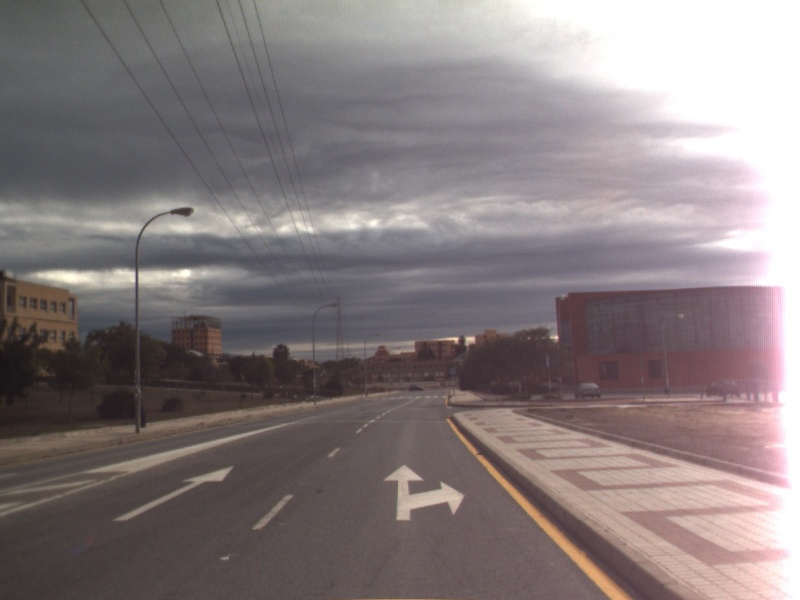STRAIGHT: (110, 464, 236, 523)
STRAIGHT_RIGHT: (381, 462, 467, 522)
